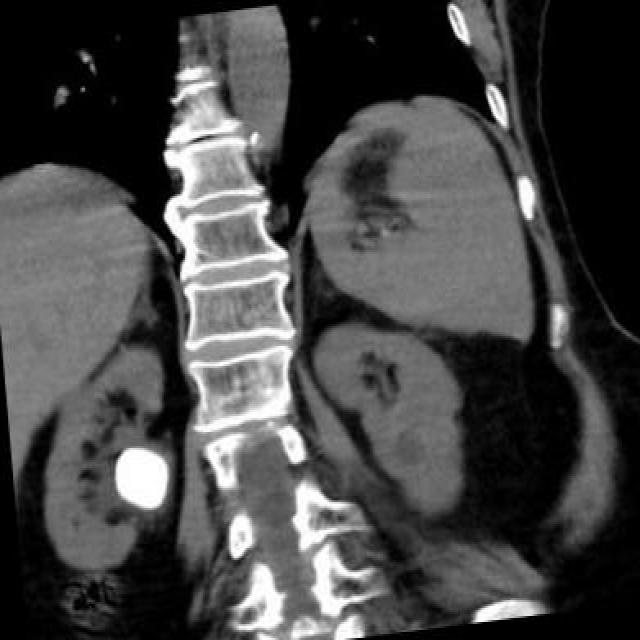Tas_Var: (110, 428, 174, 522)
